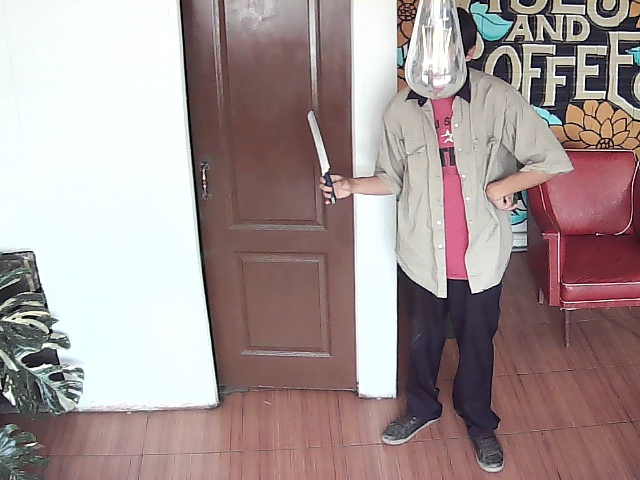cuchillo: (301, 110, 350, 209)
